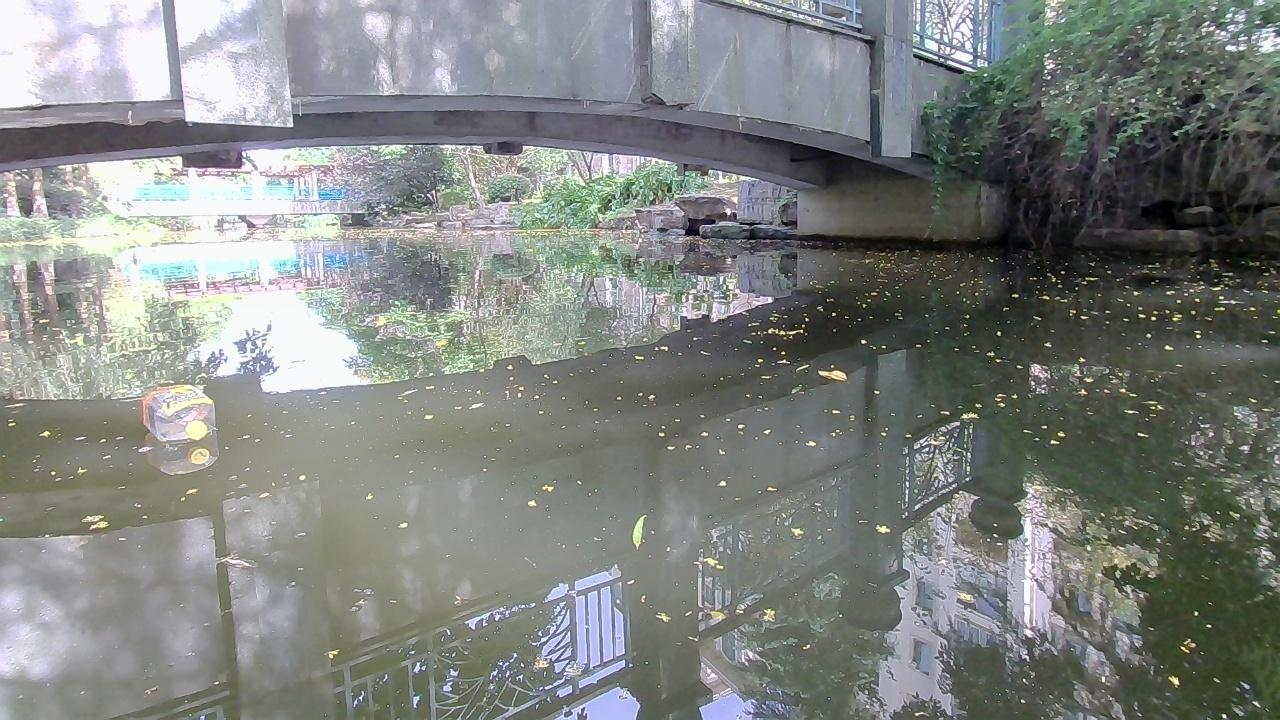bottle: (135, 383, 217, 441)
